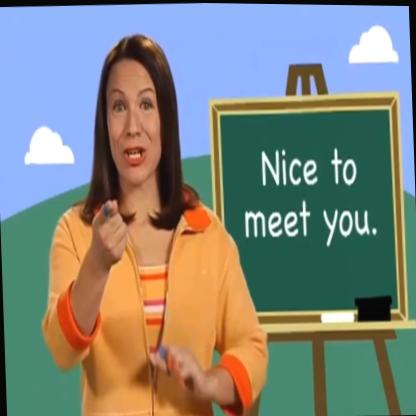NiceToMeetYou: (72, 181, 134, 276)
